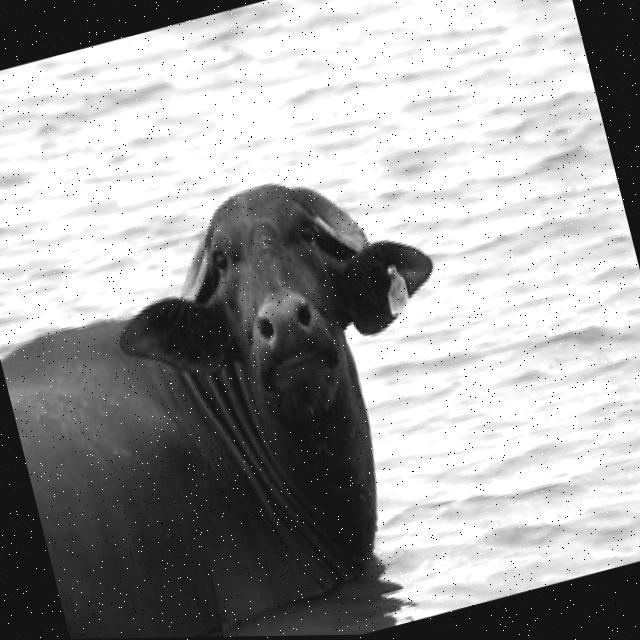Buffalo: (0, 139, 514, 640)
